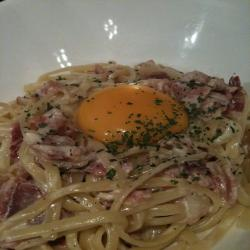carbonara: (5, 63, 236, 244)
